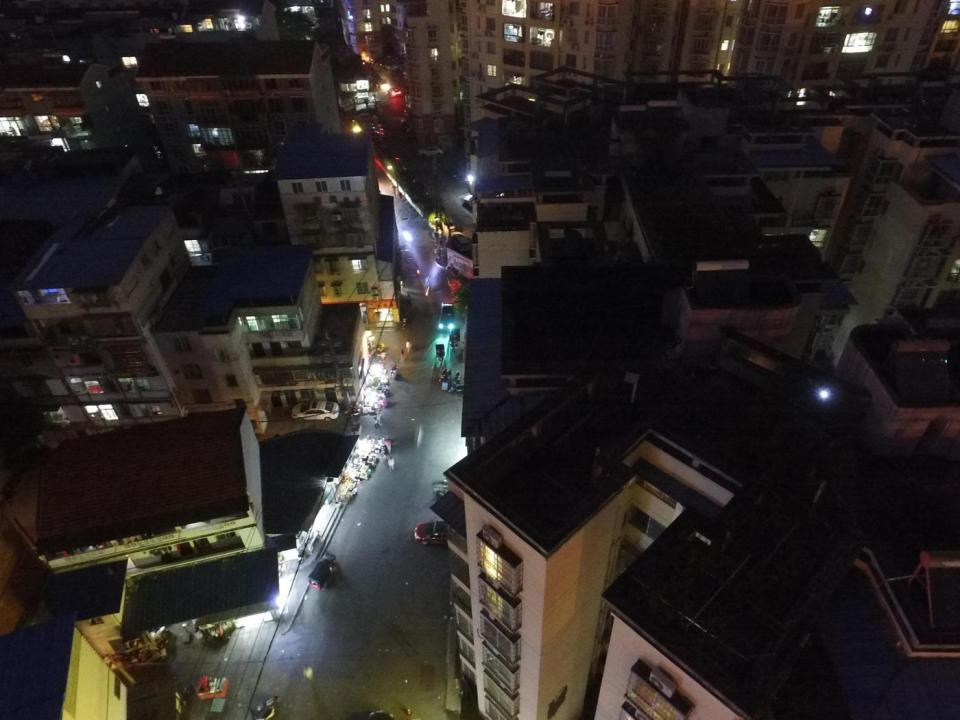car: (414, 520, 460, 546), (291, 400, 341, 421), (439, 302, 456, 332), (351, 112, 380, 124), (444, 163, 464, 180), (418, 145, 445, 155), (387, 88, 400, 96)
van: (308, 551, 336, 591)
